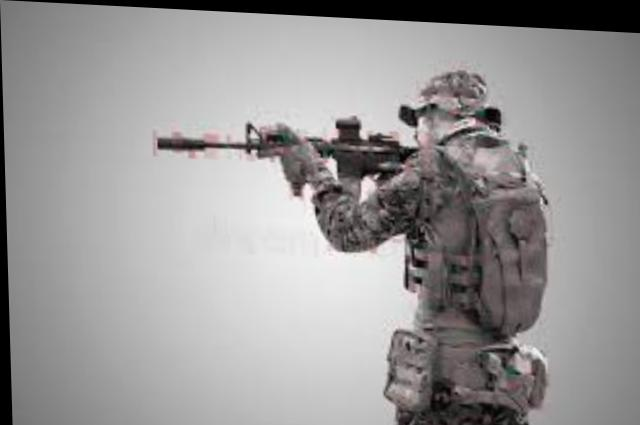other: (372, 58, 553, 424)
